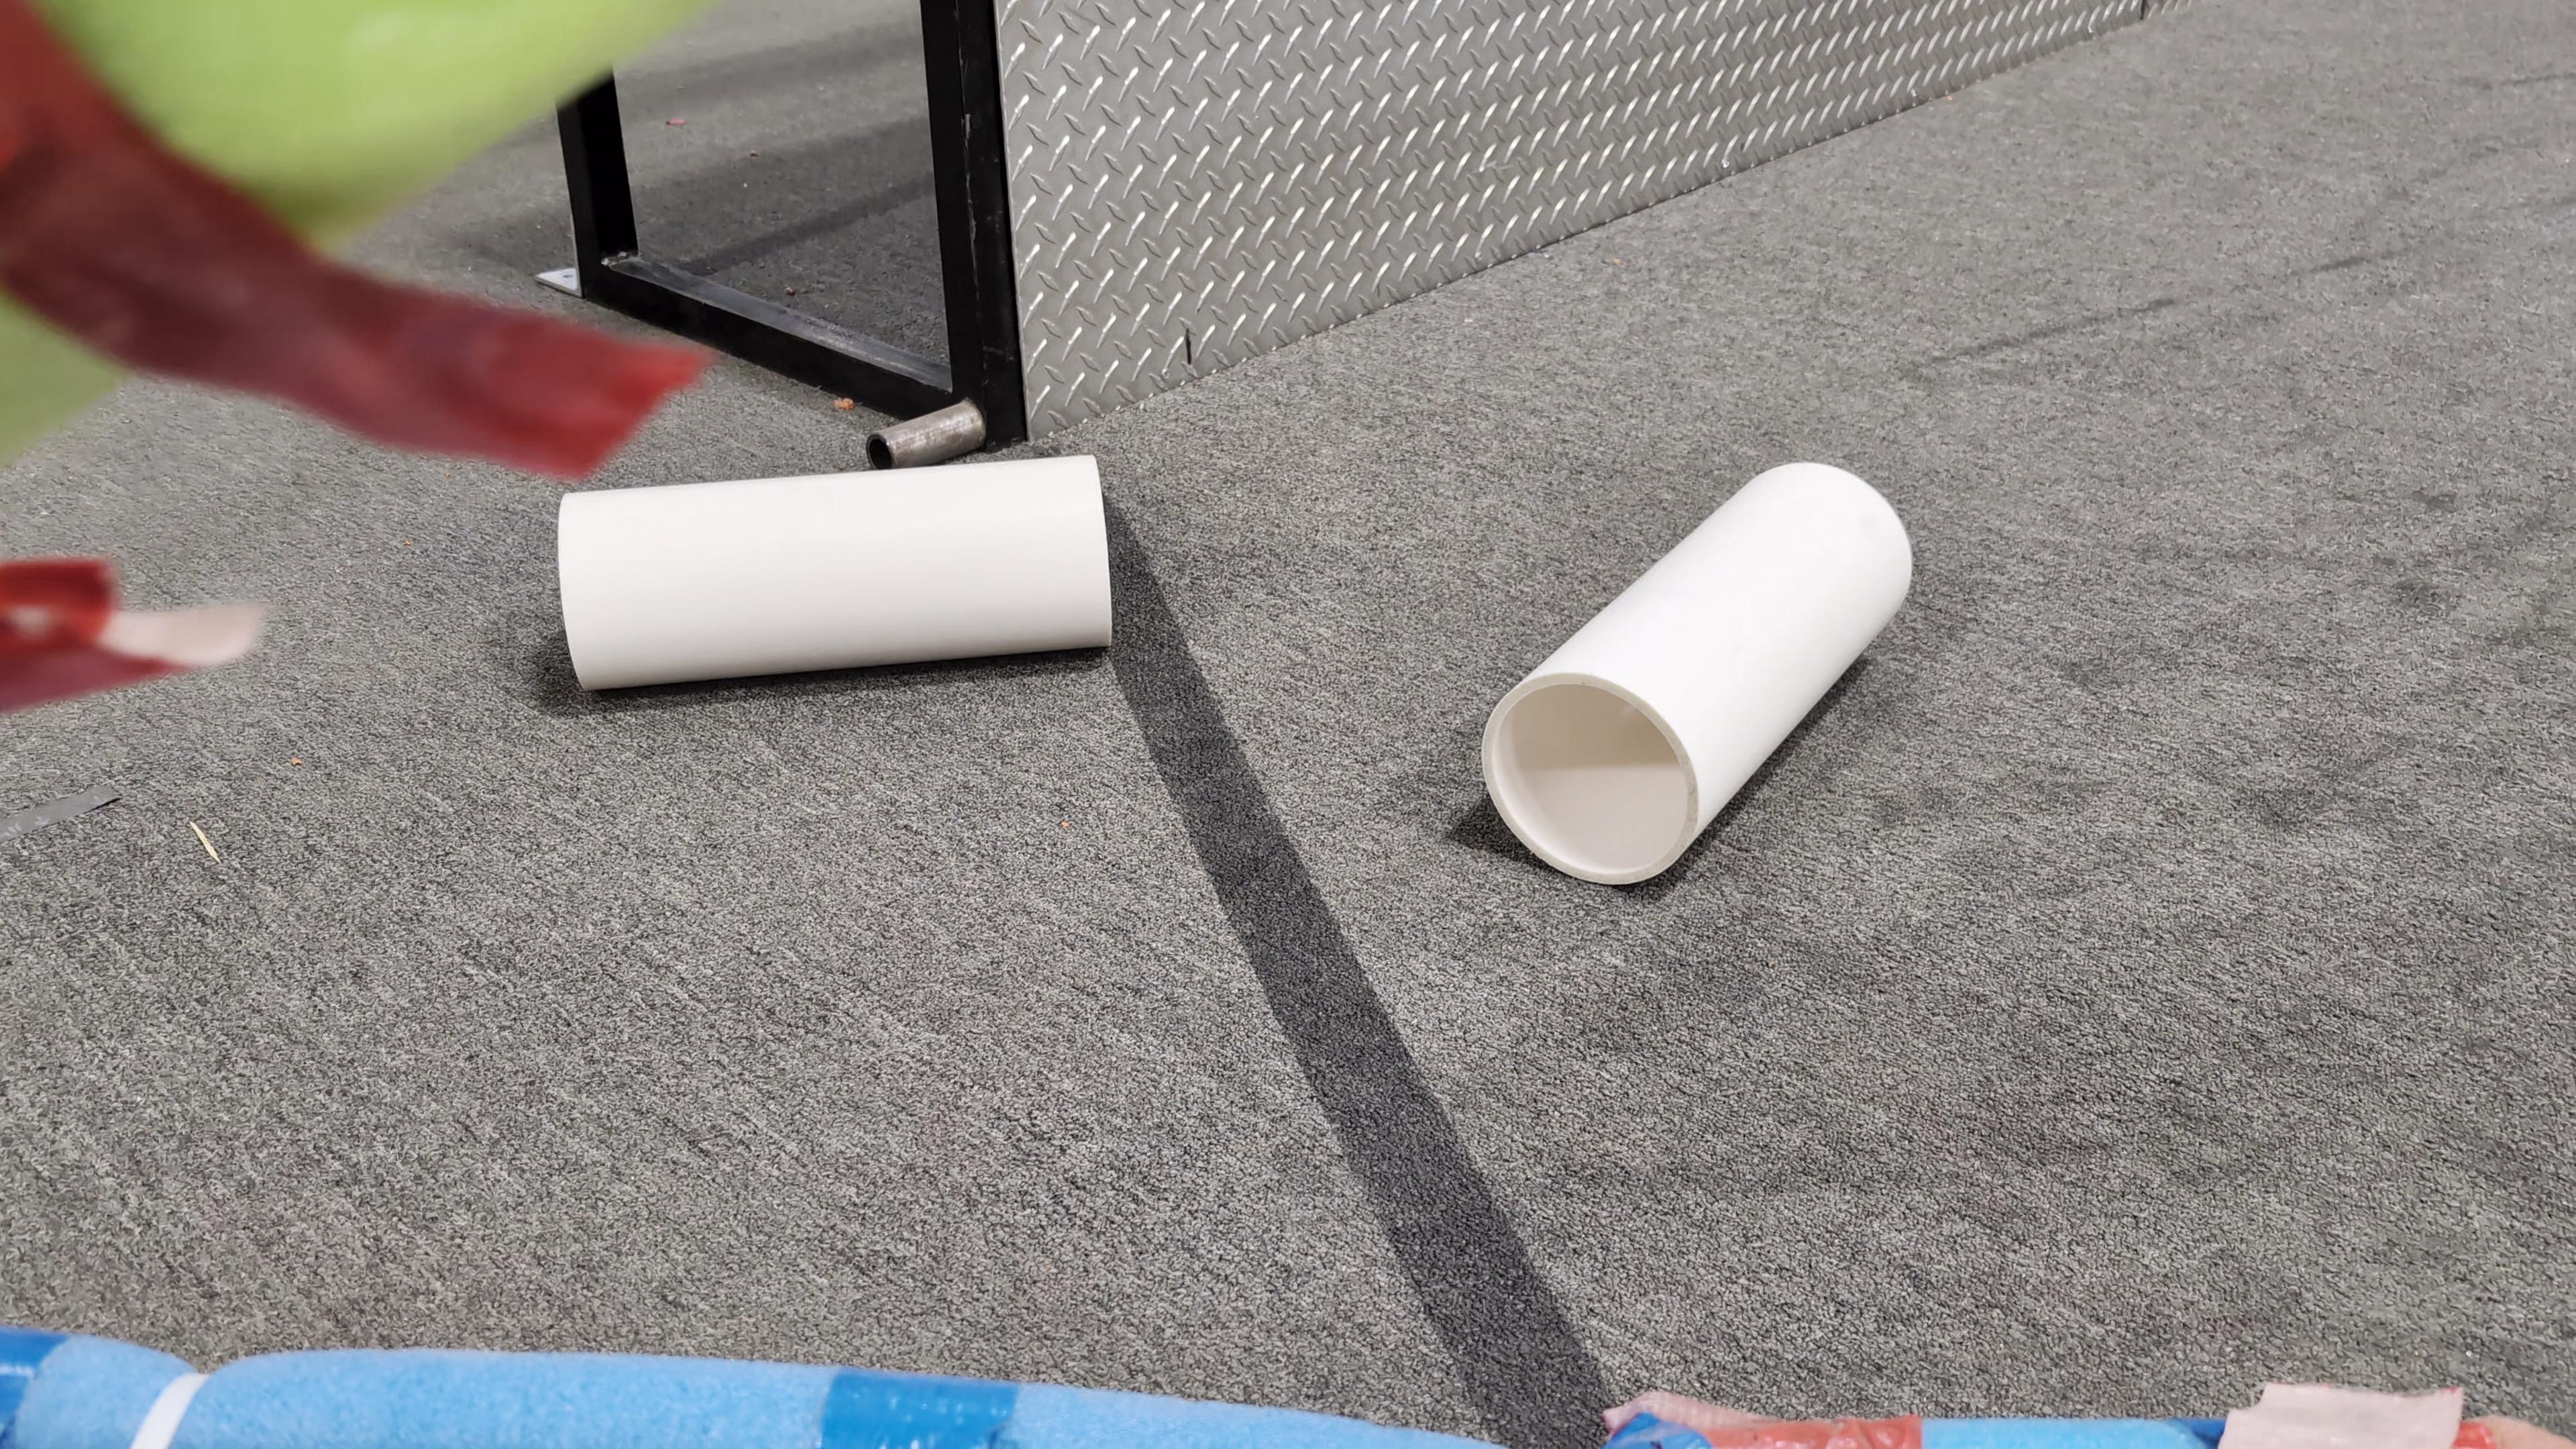coral: (1483, 456, 1916, 885), (556, 448, 1116, 688)
